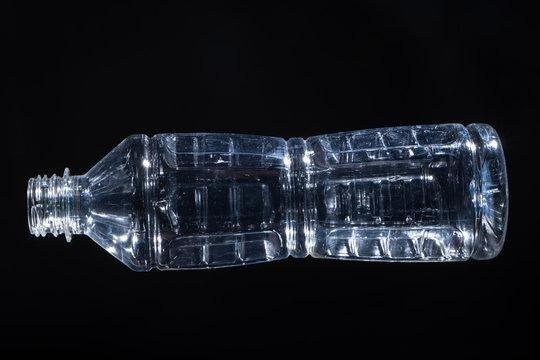bottle-plastic: (24, 117, 518, 276)
